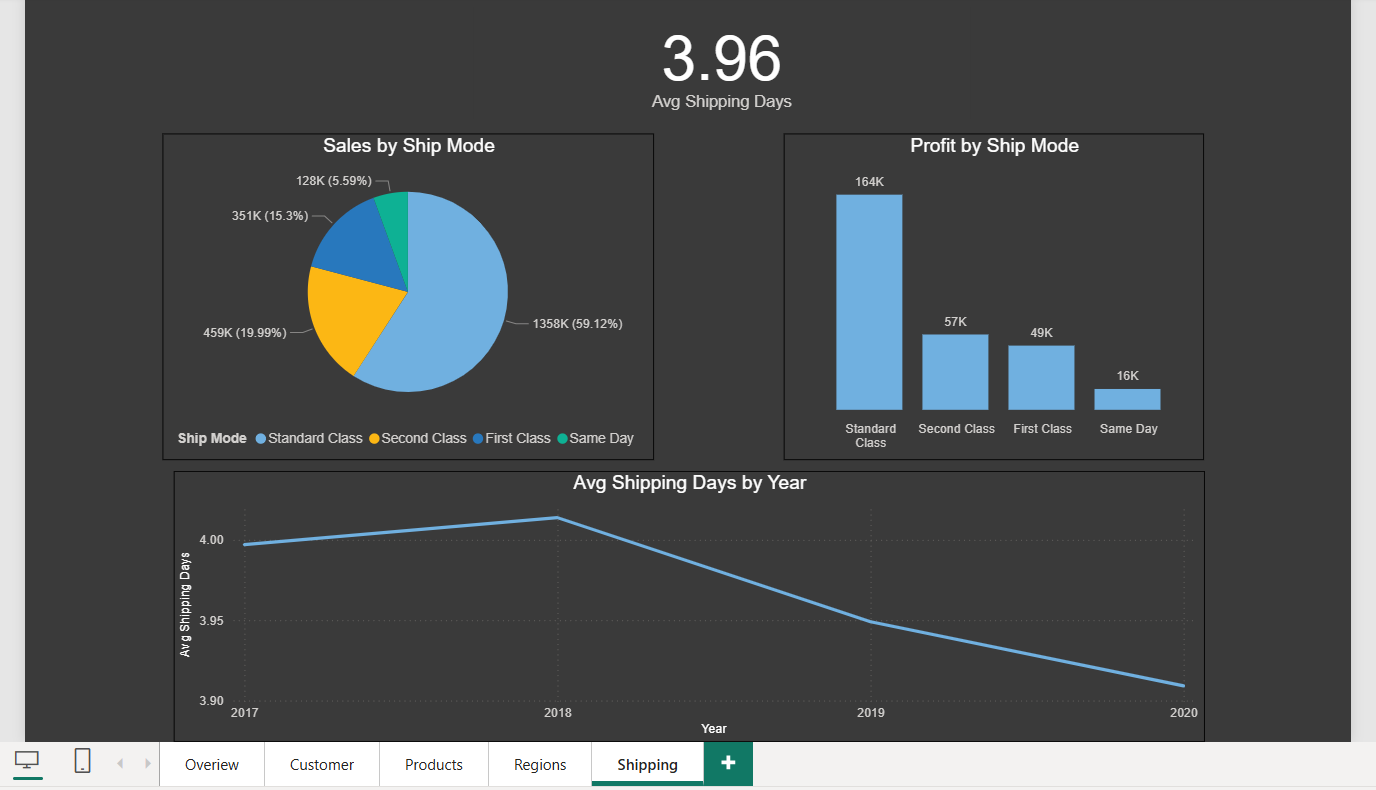

This screenshot's page, from the dashboard's own definition file:
{"tool":"powerbi","page":{"name":"Shipping","canvas":[1280,720],"ordinal":4},"visuals":[{"type":"card","fields":{"Values":["Orders.Avg Shipping Days"]},"box":[433.4,11.2,479.5,107.1],"z":0},{"type":"pieChart","title":" Sales by Ship Mode","fields":{"Category":["Orders.Ship Mode"],"Y":["Orders.Total Sales"]},"box":[133.3,133.3,474.5,315.1],"z":1000},{"type":"columnChart","title":" Profit by Ship Mode","fields":{"Category":["Orders.Ship Mode"],"Y":["Orders.Total Profit"]},"box":[732.3,133.3,406,315.1],"z":2000},{"type":"lineChart","fields":{"Y":["Orders.Avg Shipping Days"],"Category":["DateTable.Date.Variation.Date Hierarchy.Year"]},"box":[143.2,458.3,995.1,261.5],"z":3000}]}

Visuals, with their boxes on the page's 1280x720 design canvas (x1, y1, x2, y2). These are canvas units, not pixel positions in the 1376x790 screenshot, which may show the page scaled, cropped or inside an application window:
card - Orders.Avg Shipping Days: [433, 11, 913, 118]
" Sales by Ship Mode" pieChart: [133, 133, 608, 448]
" Profit by Ship Mode" columnChart: [732, 133, 1138, 448]
lineChart - Orders.Avg Shipping Days x DateTable.Date.Variation.Date Hierarchy.Year: [143, 458, 1138, 720]
